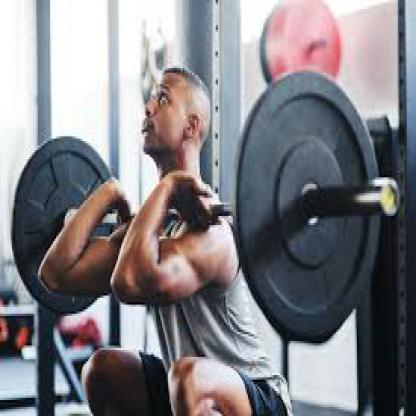Barbell: (373, 174, 404, 229)
